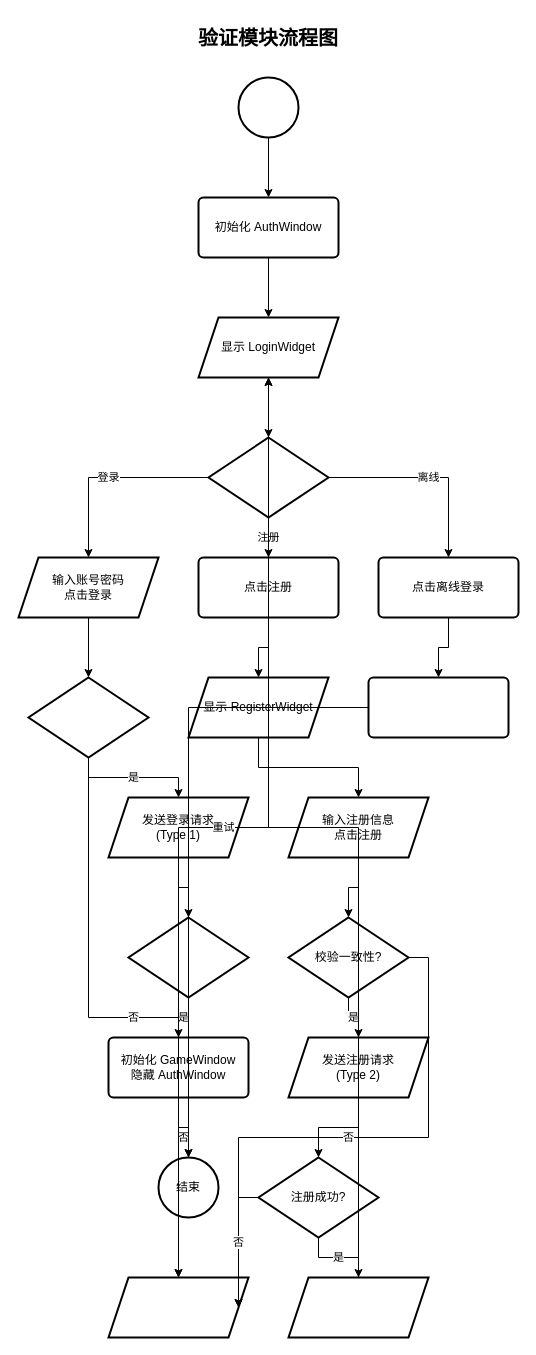
The diagram is 536 pixels wide and 1355 high, and some of its shapes have lost their labels. The centre of each missing label's shape, as x and y in pixels:
"初始化 GameWindow ($#SINGLE#$)" belongs at point (438, 707).
"开始" belongs at point (268, 107).
"显示成功弹窗" belongs at point (358, 1307).
"显示错误弹窗" belongs at point (178, 1307).
"本地格式校验?" belongs at point (88, 717).
"用户操作?" belongs at point (268, 477).
"登录成功?" belongs at point (188, 957).
